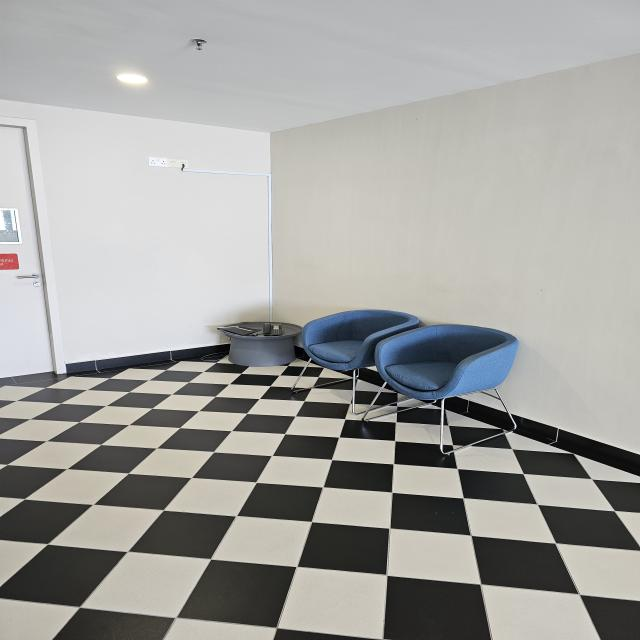footpath: (0, 462, 593, 640)
obstacle: (224, 310, 514, 452)
